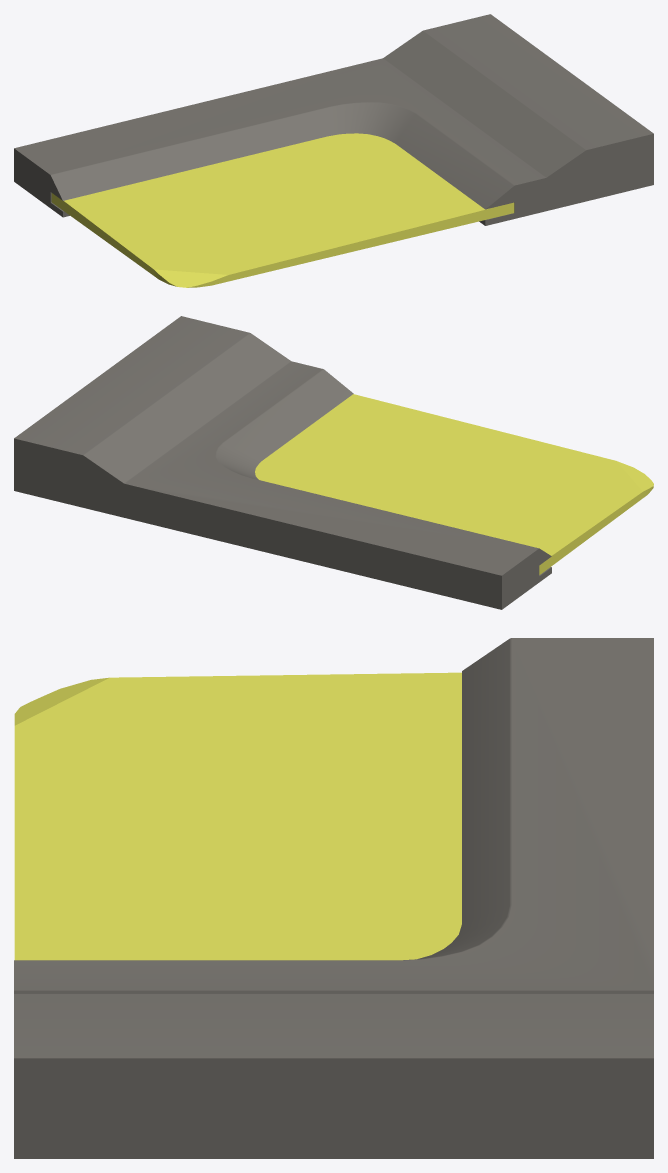
The model's file is Keycard.fbx.
The picture shows the model from 3 angles, top to bottom: view 1: azimuth 30°, elevation 25°; view 2: azimuth 150°, elevation 25°; view 3: azimuth 270°, elevation 25°; orthographic projection. The views are drawn at different scales.
Visible parts, largest first — view 1: CardHolder, Keycard; view 2: CardHolder, Keycard; view 3: CardHolder, Keycard.
Boxes of the visible parts, x1,y1,x2,y2 form: CardHolder: [14, 14, 653, 225]; Keycard: [51, 133, 514, 287]; CardHolder: [14, 316, 551, 609]; Keycard: [255, 394, 653, 574]; CardHolder: [14, 638, 653, 1158]; Keycard: [14, 672, 461, 960].
Bounding box in the file's own units: 15.68 × 1.61 × 9.31.
